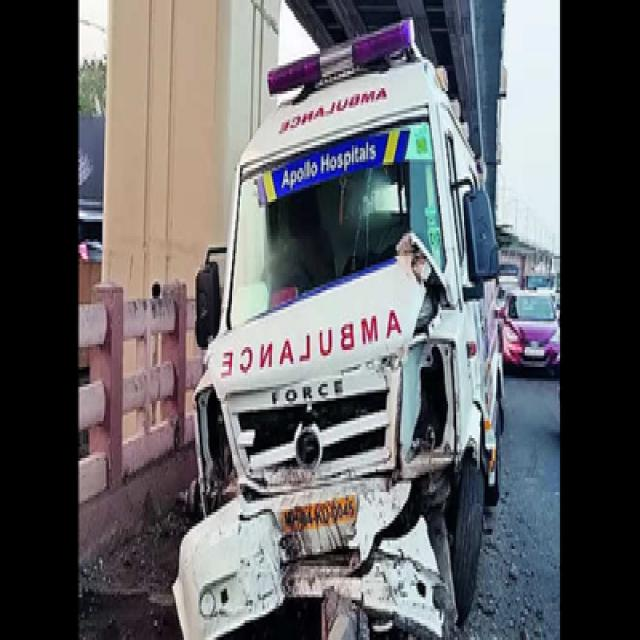accident: (174, 20, 499, 638)
